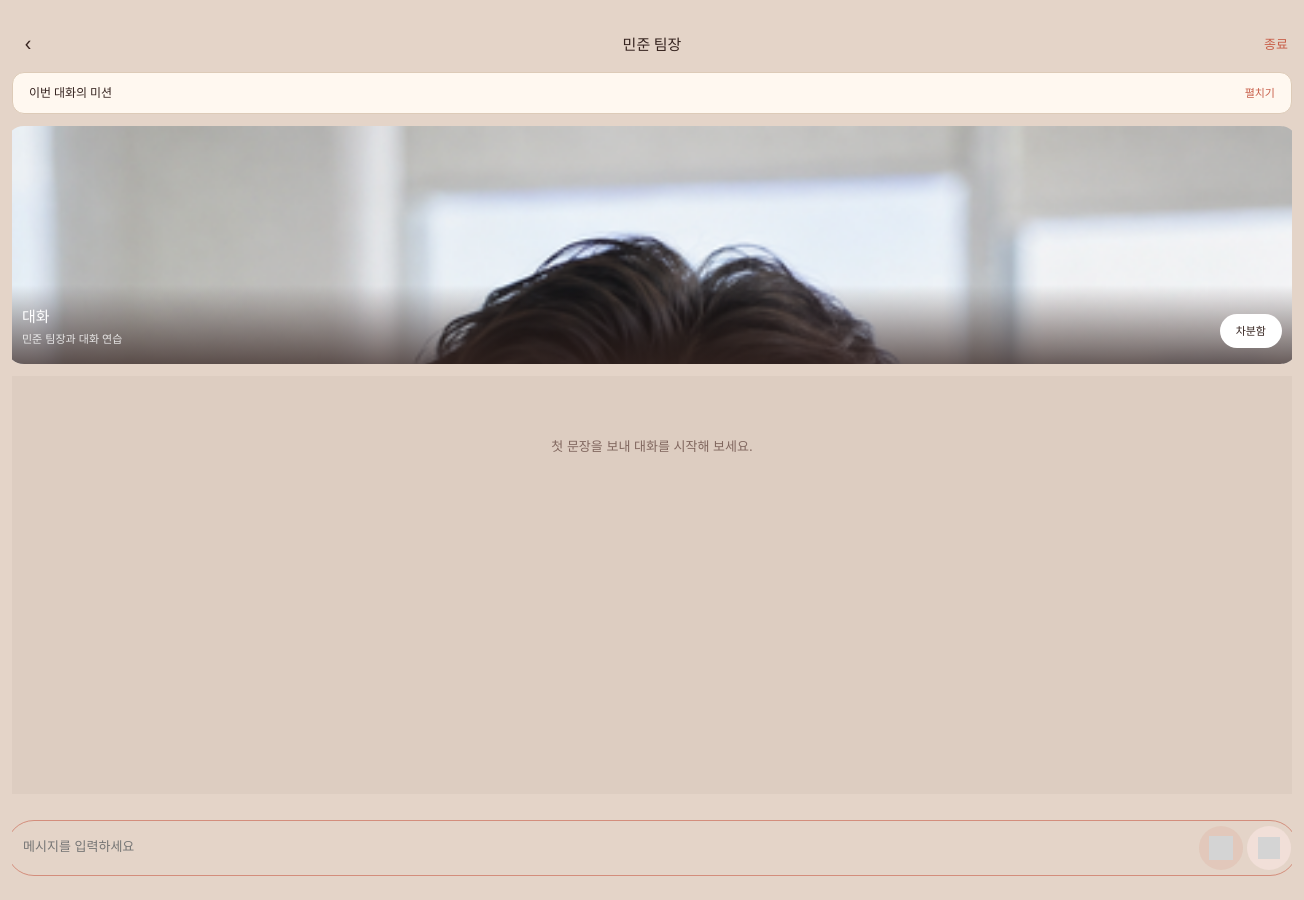
Test case: 음성 인식 미지원 브라우저에서는 안내하고 전송하지 않는다
Click the button named "음성 입력 시작": [1221, 848] box [1199,826,1243,870]
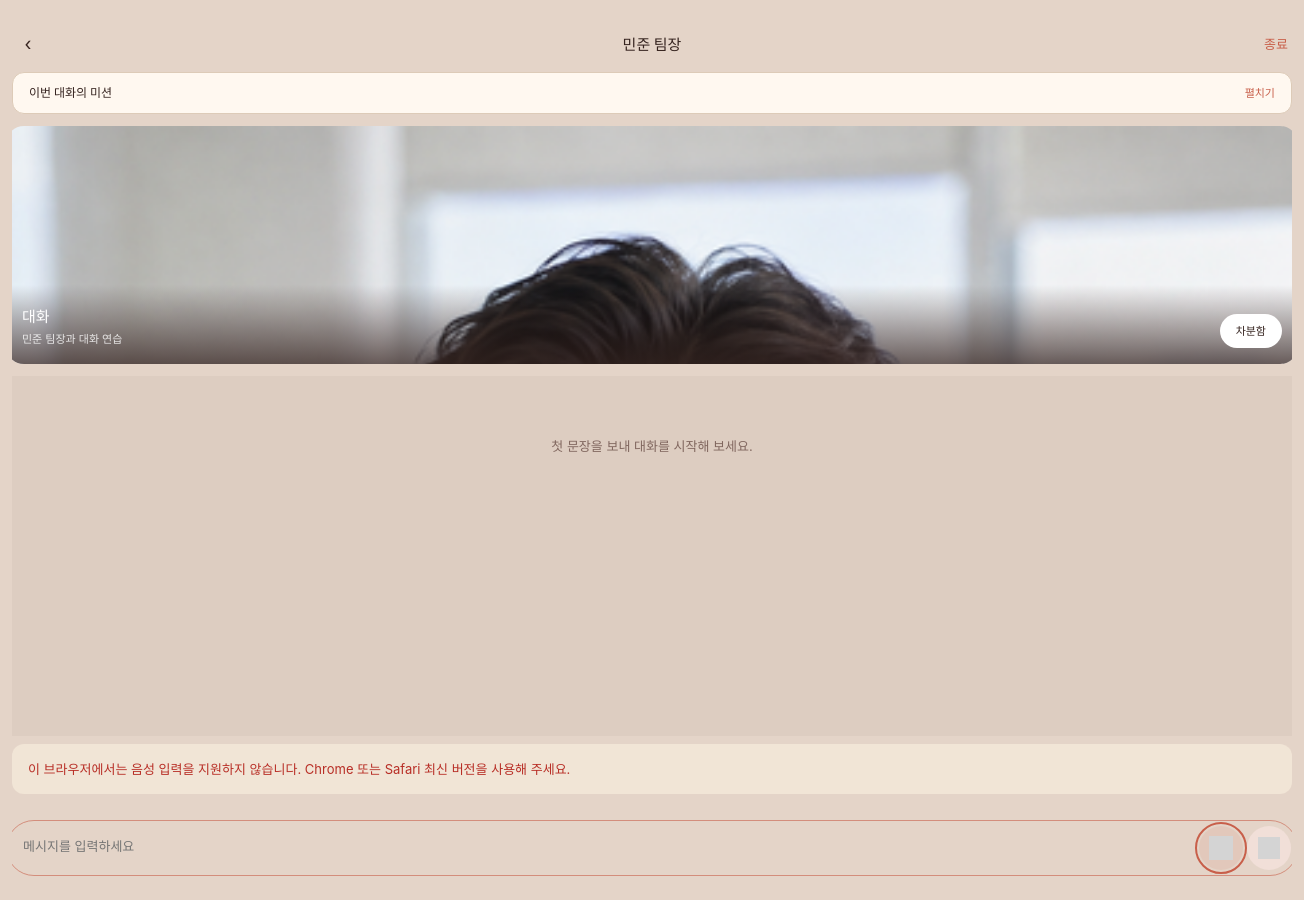
Now the message shows "이 브라우저에서는 음성 입력을 지원하지 않습니다", box [28,761,570,777]
